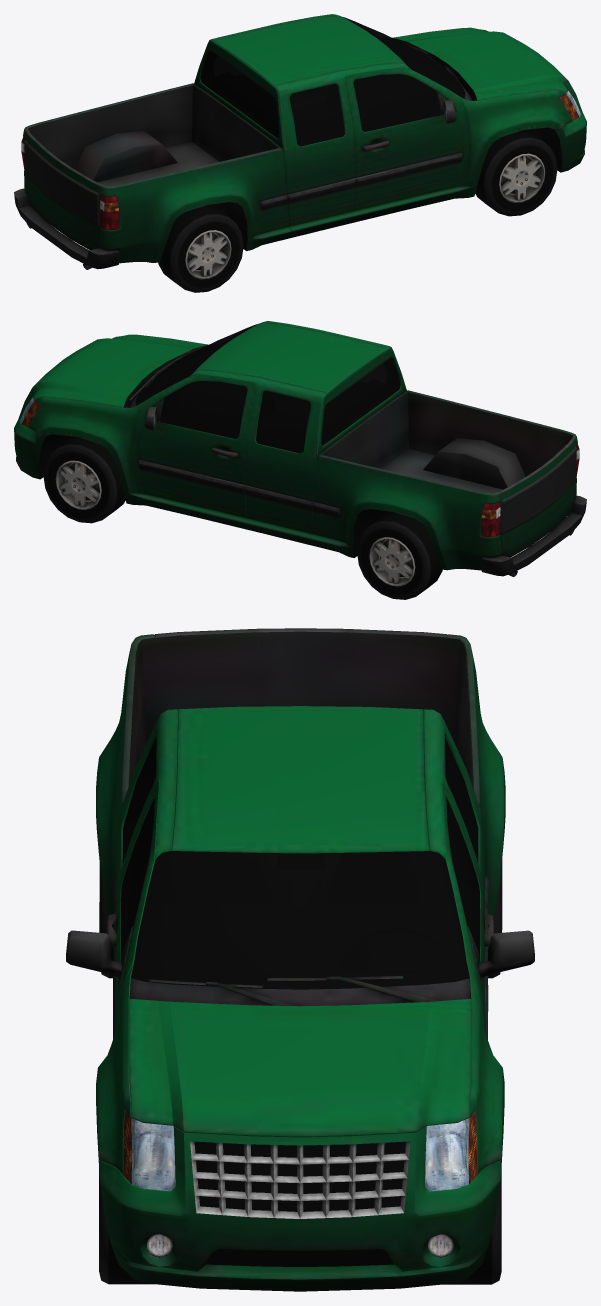
File: traffic_pickup.glb
3 renders of one model, top to bottom at view 1: azimuth 30°, elevation 25°; view 2: azimuth 150°, elevation 25°; view 3: azimuth 270°, elevation 25°, orthographic. The views are drawn at different scales.
Parts seen in each view (by area): view 1: Pickup Body_Body_0, Pickup Body_Glass_0, Wheel_E003_Wheel_0, Wheel_E002_Wheel_0, Pickup Body_Optics_0; view 2: Pickup Body_Body_0, Pickup Body_Glass_0, Wheel_E001_Wheel_0, Wheel_E_Wheel_0, Pickup Body_Optics_0; view 3: Pickup Body_Body_0, Pickup Body_Glass_0, Pickup Body_Optics_0, Wheel_E_Wheel_0, Wheel_E002_Wheel_0.
Boxes of the visible parts, box(x1,y1,x2,y2) form: Pickup Body_Body_0: box(14, 14, 586, 269); Pickup Body_Glass_0: box(200, 17, 465, 146); Wheel_E003_Wheel_0: box(158, 205, 243, 292); Wheel_E002_Wheel_0: box(475, 130, 557, 216); Pickup Body_Optics_0: box(21, 91, 580, 230); Pickup Body_Body_0: box(14, 321, 586, 576); Pickup Body_Glass_0: box(135, 324, 400, 453); Wheel_E001_Wheel_0: box(357, 512, 442, 599); Wheel_E_Wheel_0: box(43, 436, 125, 523); Pickup Body_Optics_0: box(20, 397, 579, 537); Pickup Body_Body_0: box(66, 628, 534, 1291); Pickup Body_Glass_0: box(121, 737, 480, 989); Pickup Body_Optics_0: box(123, 1110, 476, 1257); Wheel_E_Wheel_0: box(443, 1169, 501, 1284); Wheel_E002_Wheel_0: box(99, 1169, 154, 1284).
Bounding box in the file's own units: 5.18 × 1.7 × 2.07.
4 materials, 3 textured.
